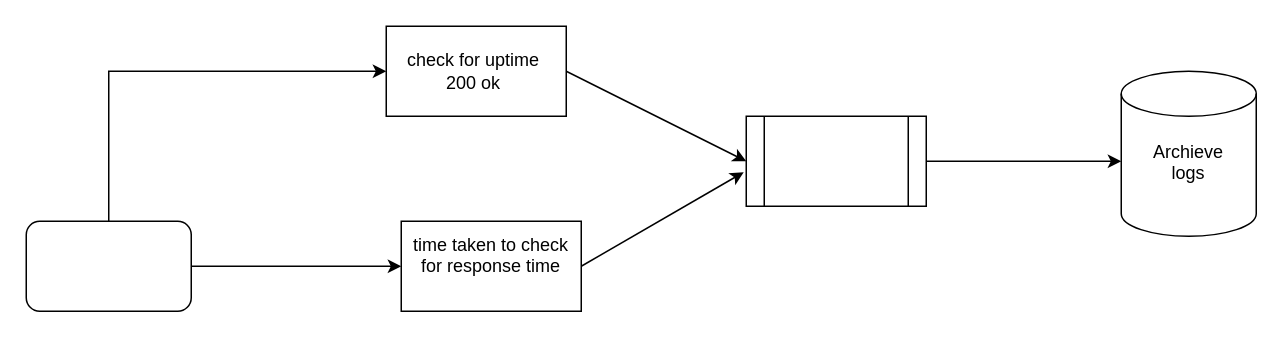
Some shapes in this 1283 by 338 pixel diagram are drawn without their labels. The centre of each missing label's shape, as x and y in pixels:
"logs files" belongs at pixel 835 160.
"website" belongs at pixel 108 265.
